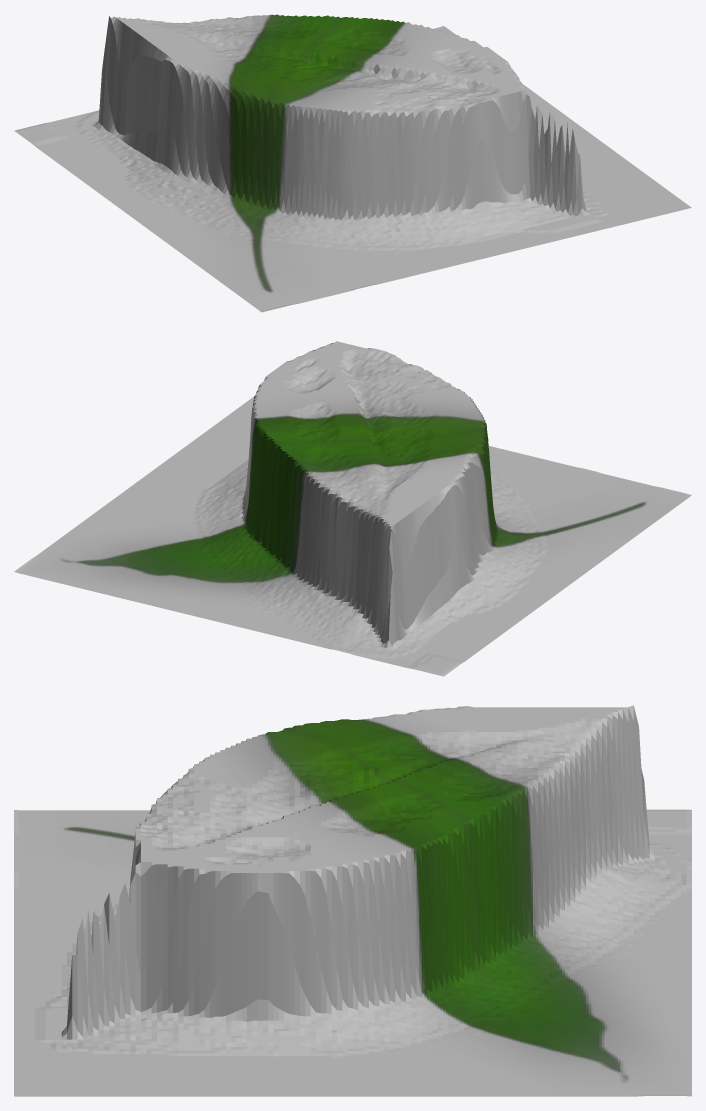
Rendered from Hoja1.fbx.
3 views of the same model, one above another, from view 1: azimuth 30°, elevation 25°; view 2: azimuth 150°, elevation 25°; view 3: azimuth 270°, elevation 25° (orthographic). The views are drawn at different scales.
Visible parts, largest first — view 1: Plane; view 2: Plane; view 3: Plane.
Part boxes in pixels (box(x1,y1,x2,y2)): Plane: box(14, 14, 691, 312); Plane: box(14, 341, 691, 676); Plane: box(14, 705, 691, 1096).
Size of the model in its own units: 15.9 by 3.99 by 15.9.
